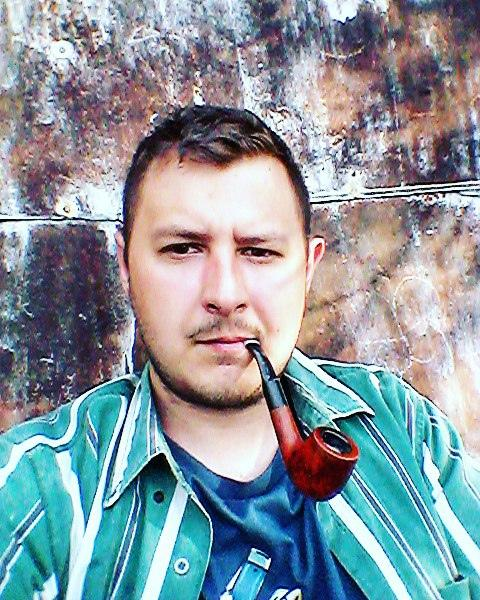trubka: (244, 339, 358, 501)
